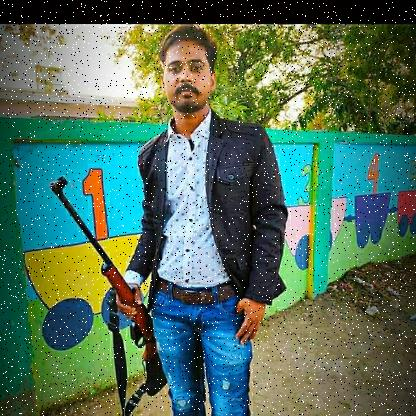rifle: (48, 175, 170, 398)
